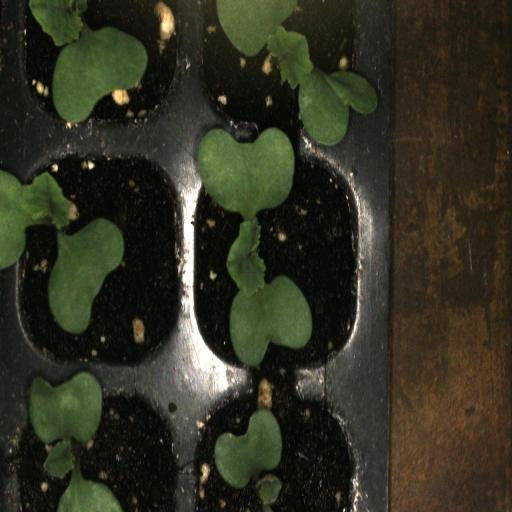Folha: (214, 408, 282, 489)
Germinacao: (8, 139, 190, 381), (190, 139, 371, 380), (8, 0, 191, 141), (192, 0, 368, 139), (10, 382, 190, 512)
